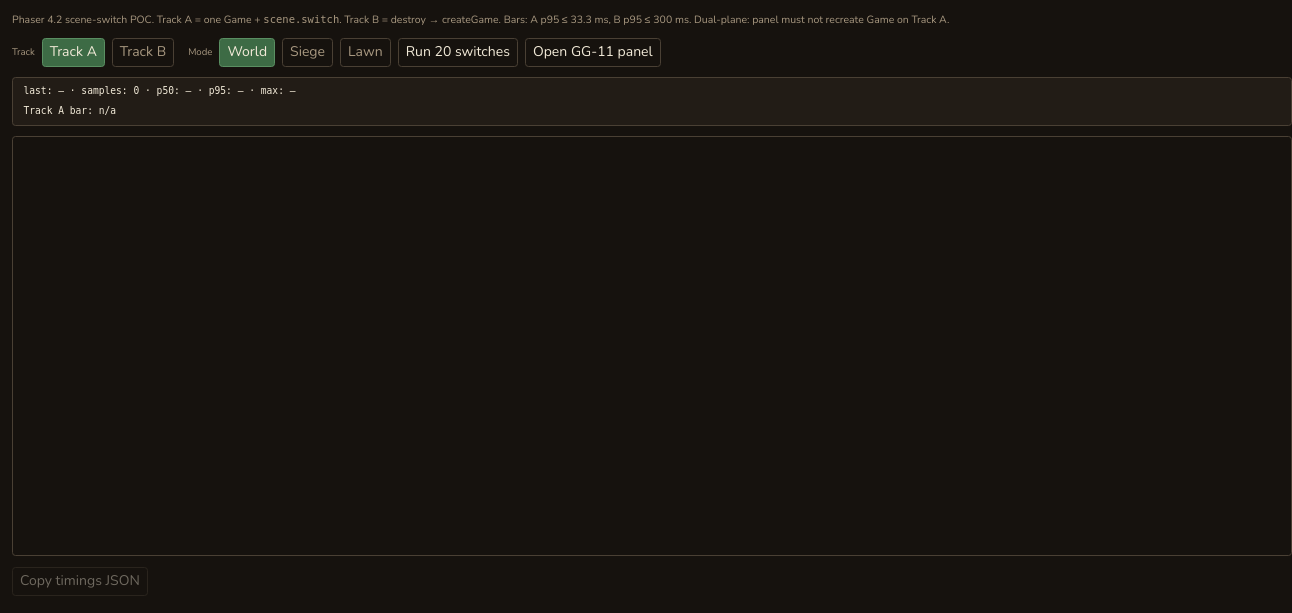
Test: PhaserSceneSwitchPocPage › renders chrome and records a mode switch sample
Click the button with test id "phaser-scene-poc-mode-siege": (308, 52) [282,38,333,67]
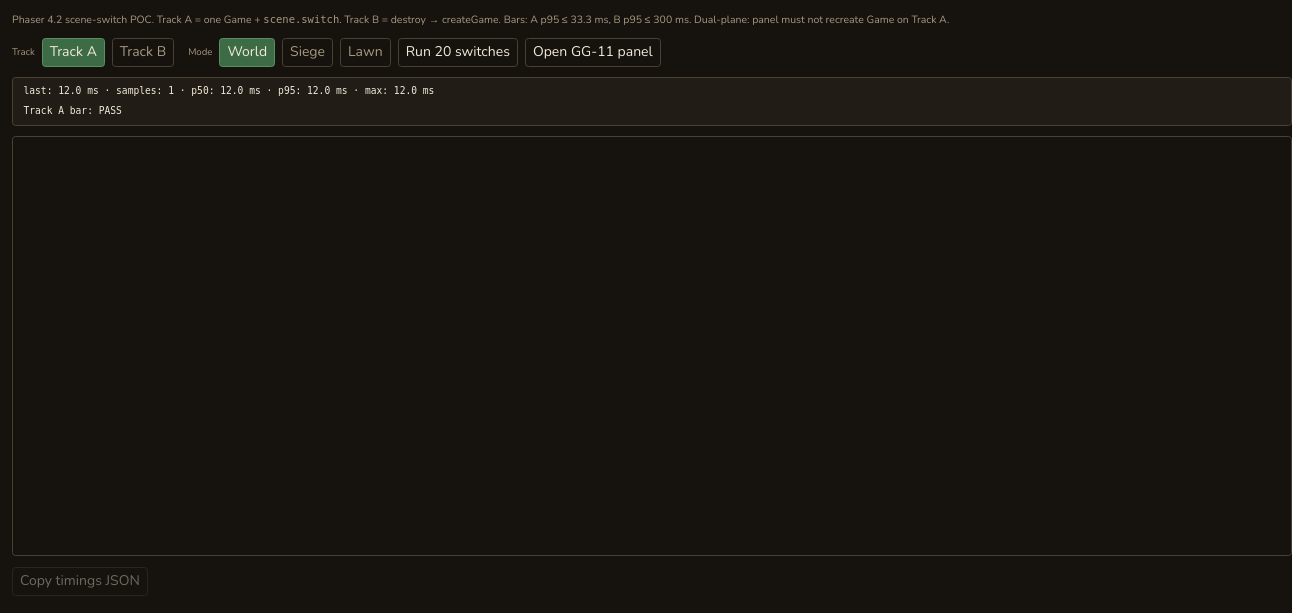
Now the element with test id "phaser-scene-poc-metrics" shows "12", box [58,85,99,96]
